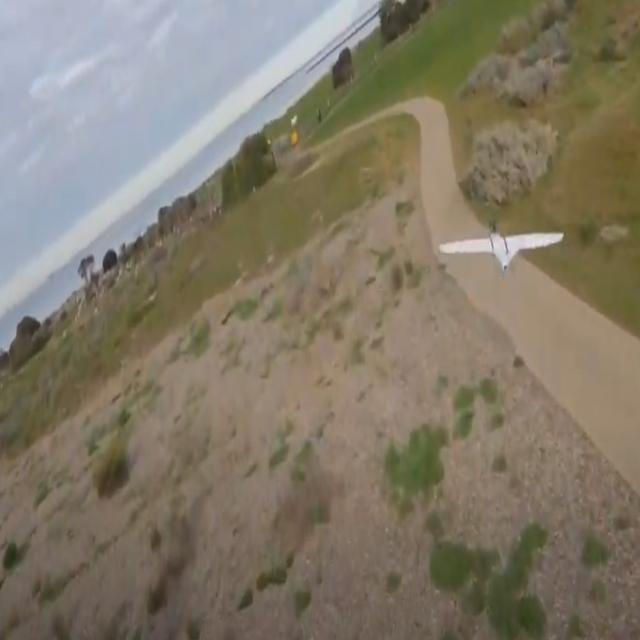iha: (436, 215, 564, 278)
